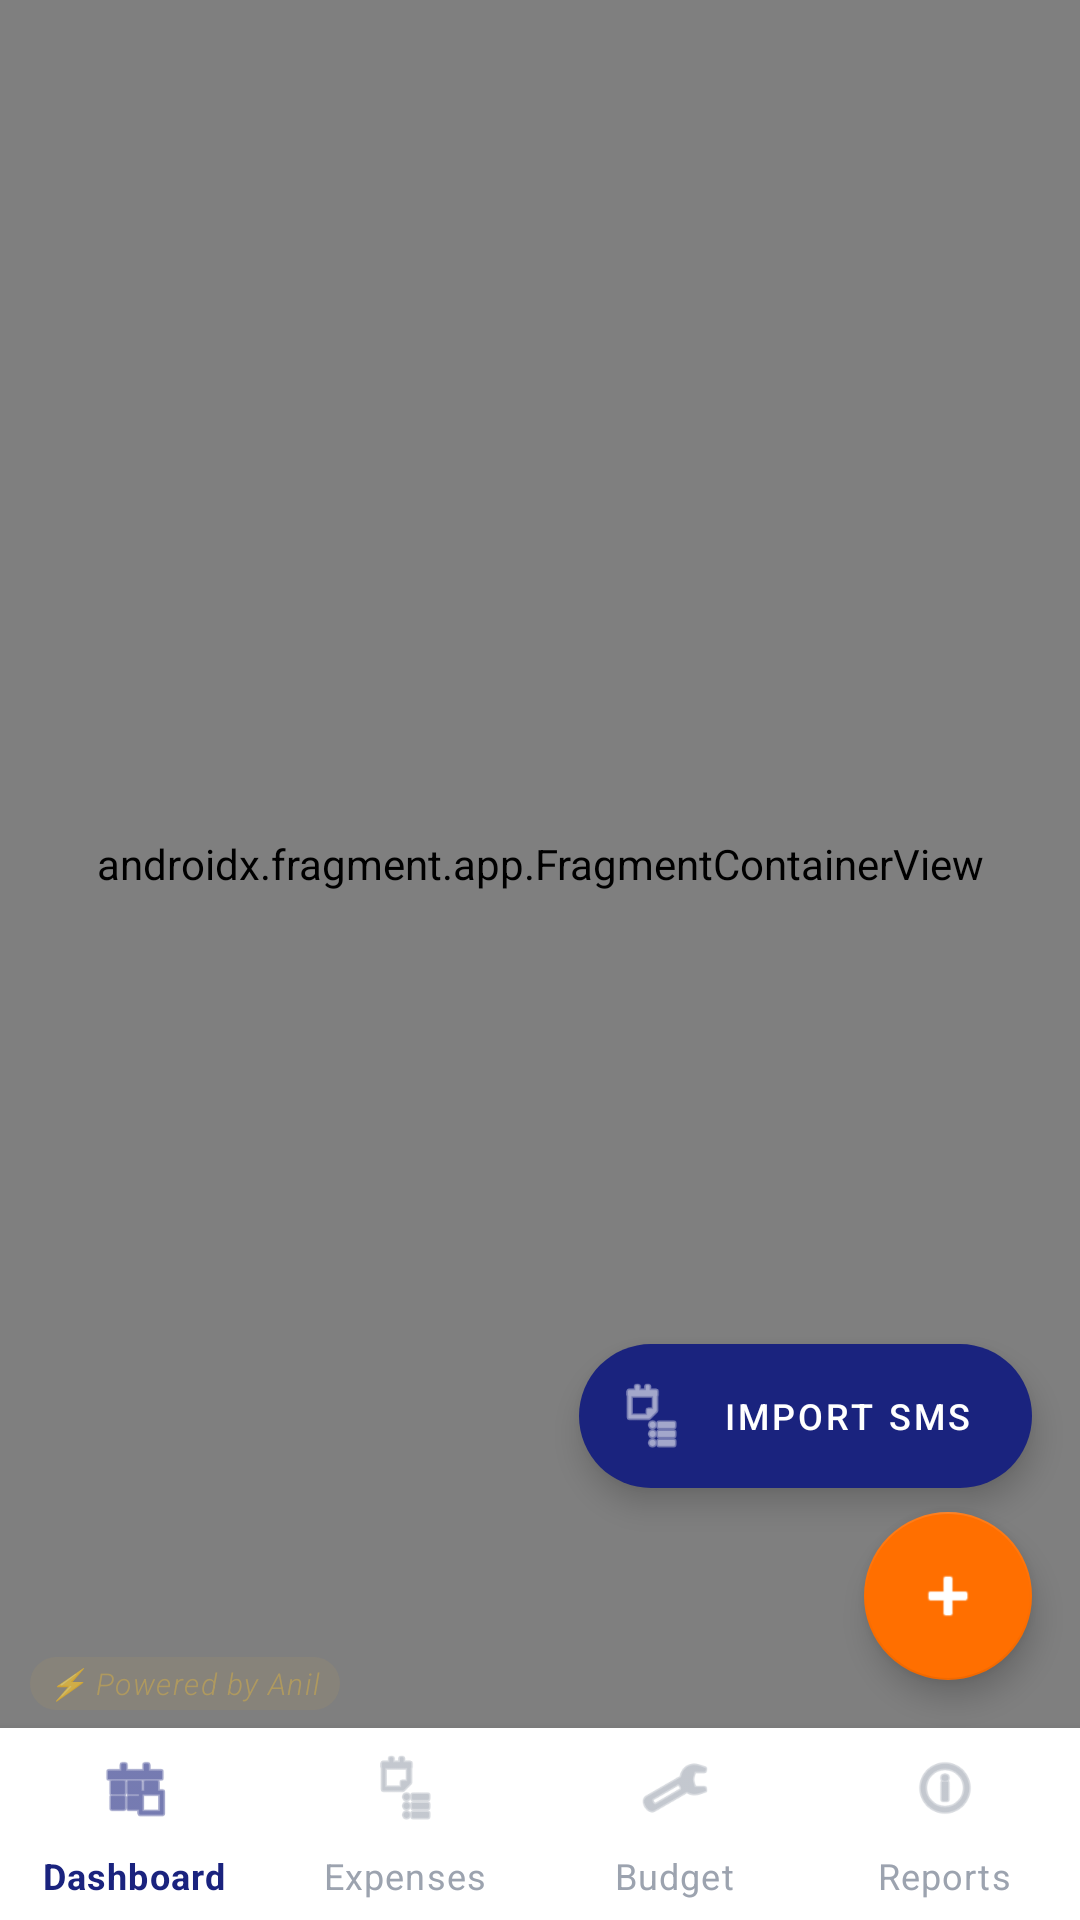

Named icons in this screenshot (1080×1920) and their bounding boxes, (x1, y1, x2, y2):
Add Expense: (864, 1512, 1032, 1680)
